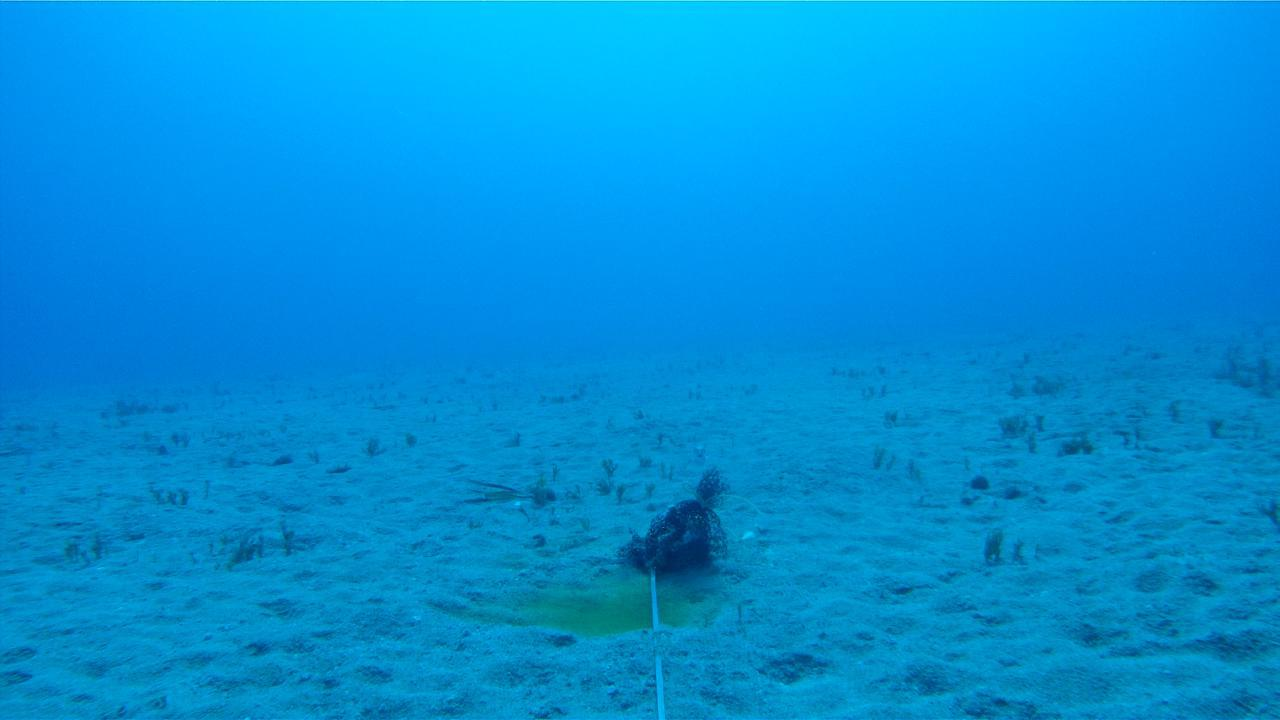bothus: (321, 458, 356, 476)
